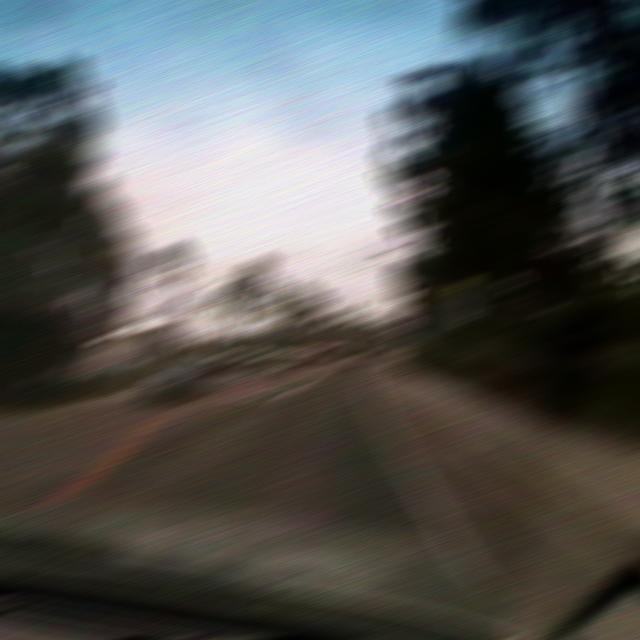speedLimit25: (448, 278, 478, 322)
